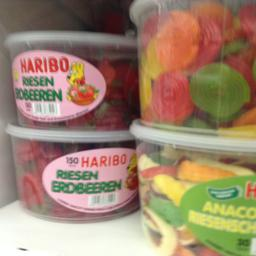candy: (124, 0, 254, 134), (127, 119, 254, 255), (0, 122, 142, 222), (4, 28, 138, 126)
